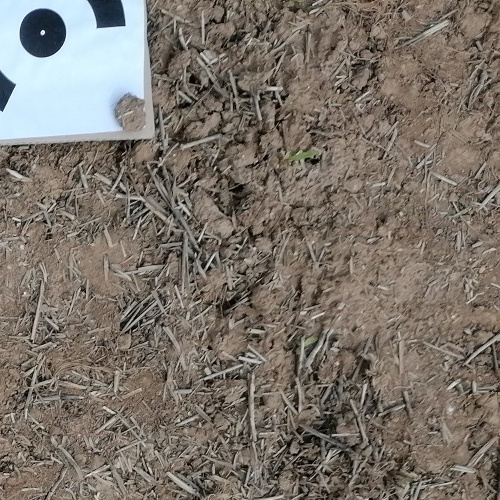beet: (280, 150, 320, 163)
